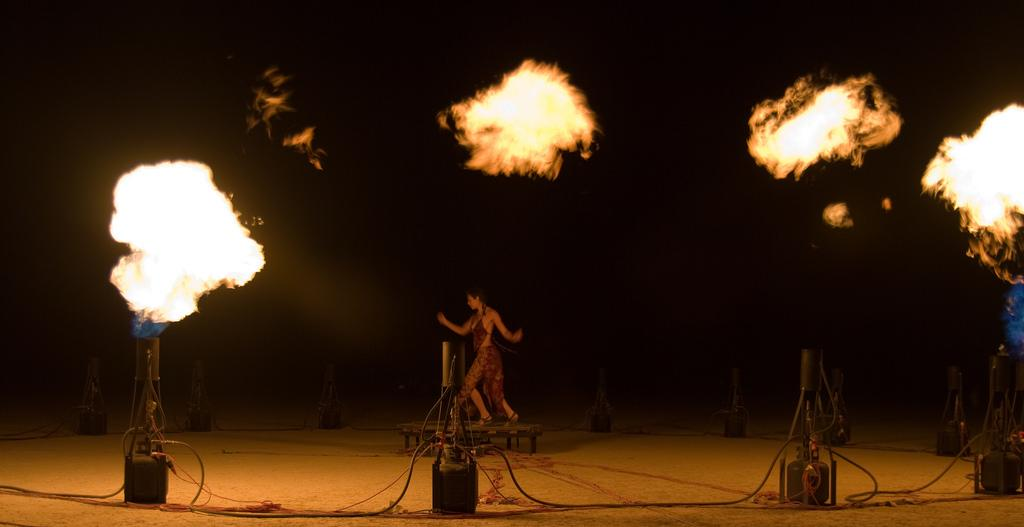fire: (109, 171, 247, 309), (470, 80, 589, 157), (956, 120, 1024, 216), (776, 100, 864, 154)
